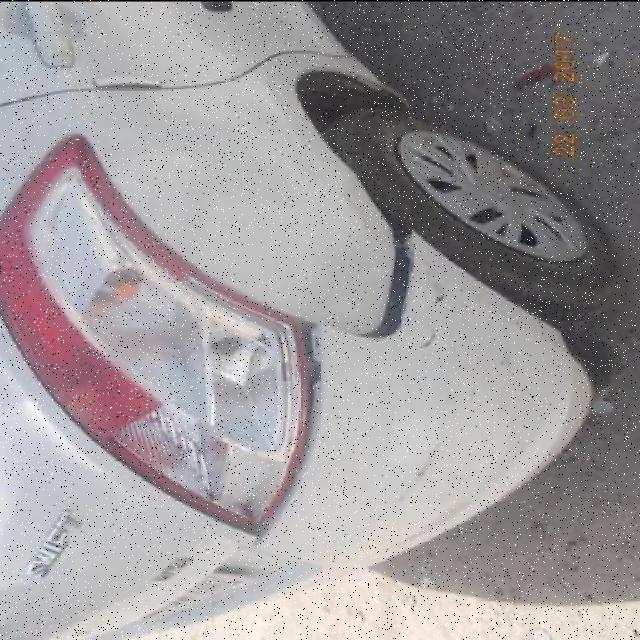damage: (46, 171, 293, 490), (353, 211, 428, 338), (394, 389, 456, 498), (284, 318, 331, 450), (409, 257, 455, 352)
